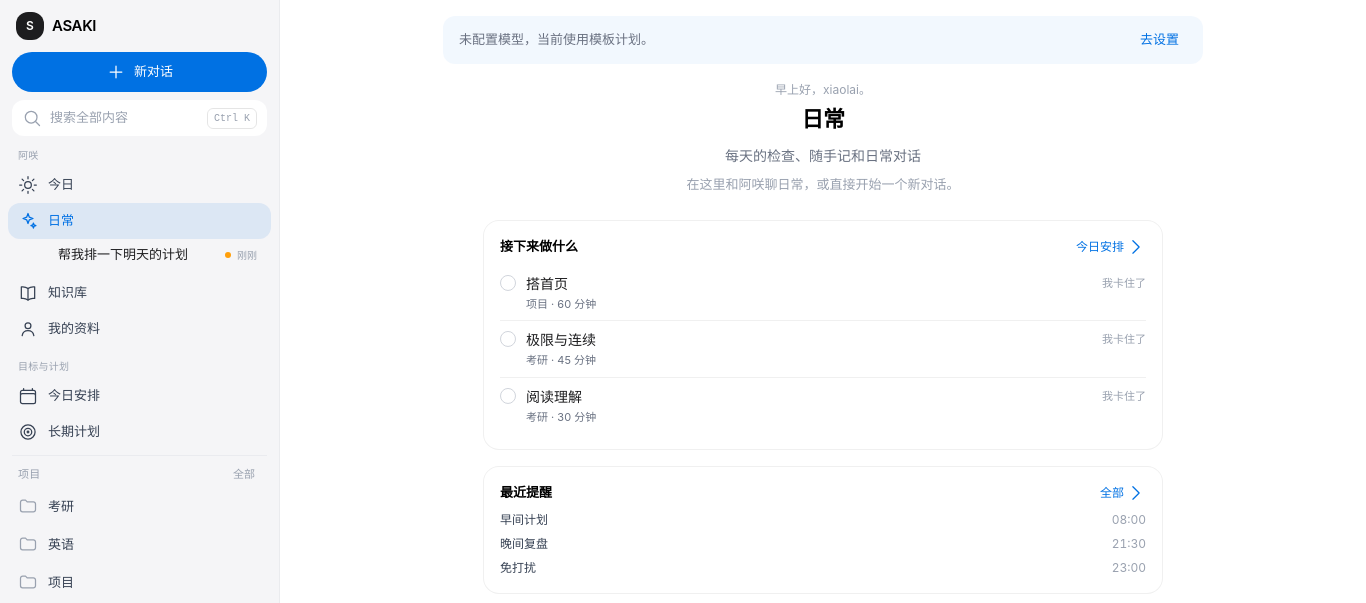
Test case: a turn restored after a restart shows its partial answer and why it stopped
Click the button "帮我排一下明天的计划 刚刚" at (148, 255), box [28,239,267,271]
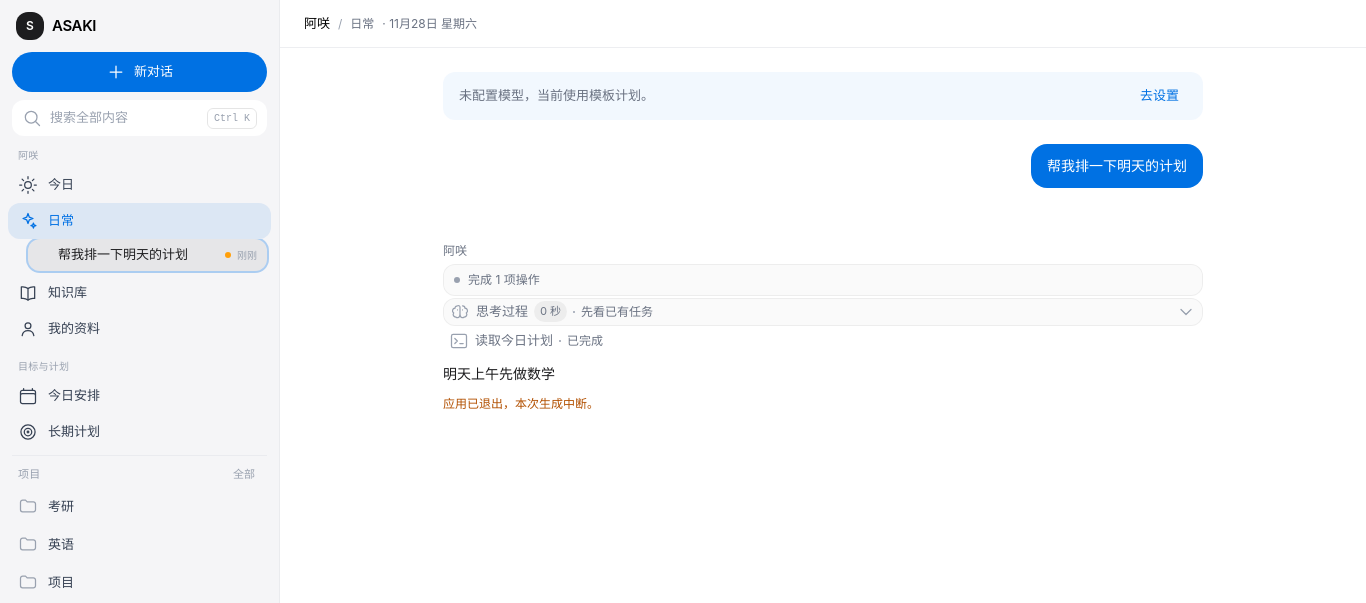
Now the text "明天上午先做数学" is shown, box [443,364,555,382]
Now the text "应用已退出，本次生成中断。" is shown, box [443,396,599,410]
